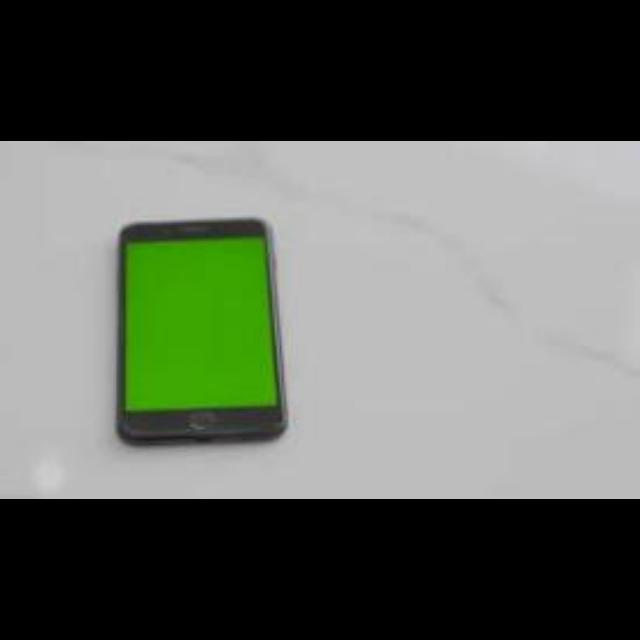Phone: (116, 220, 288, 440)
